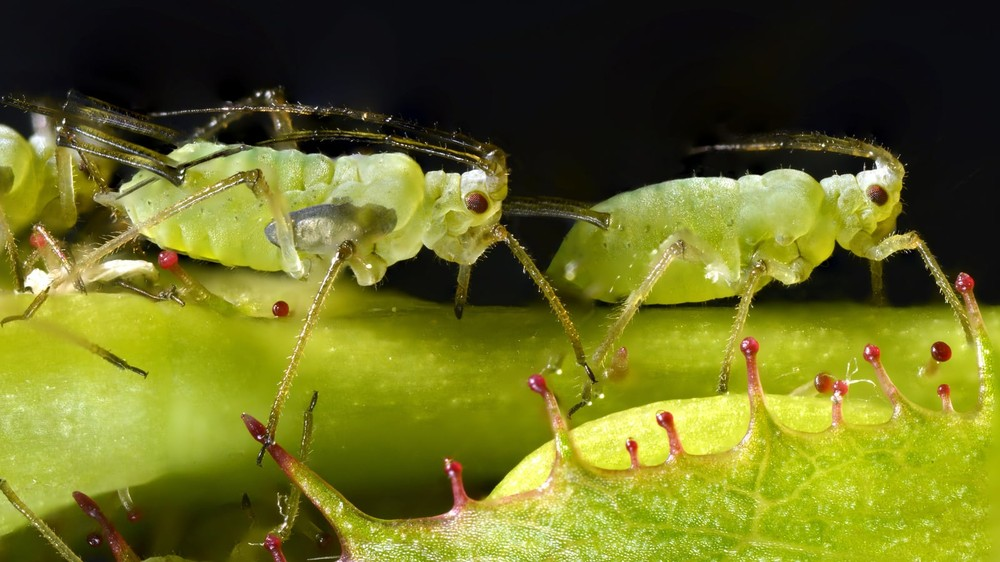Pulgon: (62, 44, 579, 420), (530, 91, 975, 415)
